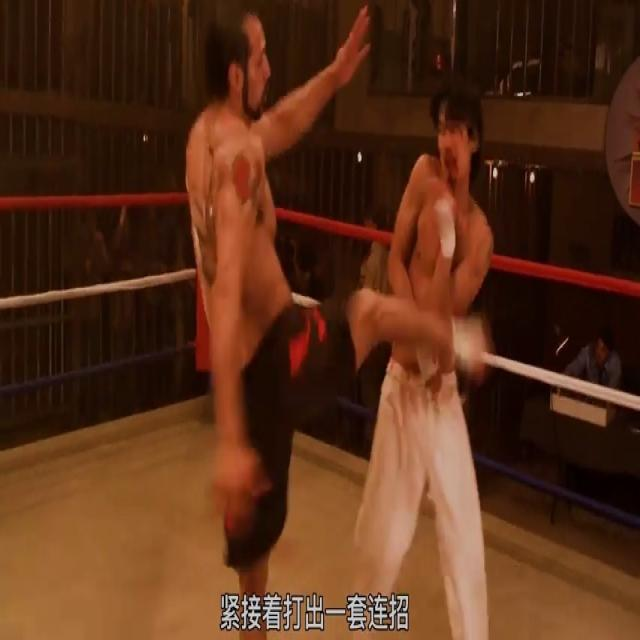fight: (175, 1, 511, 639)
